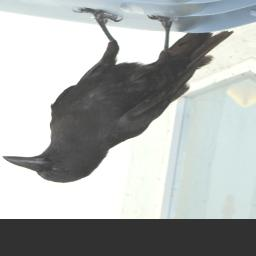Crow: (0, 0, 235, 195)
